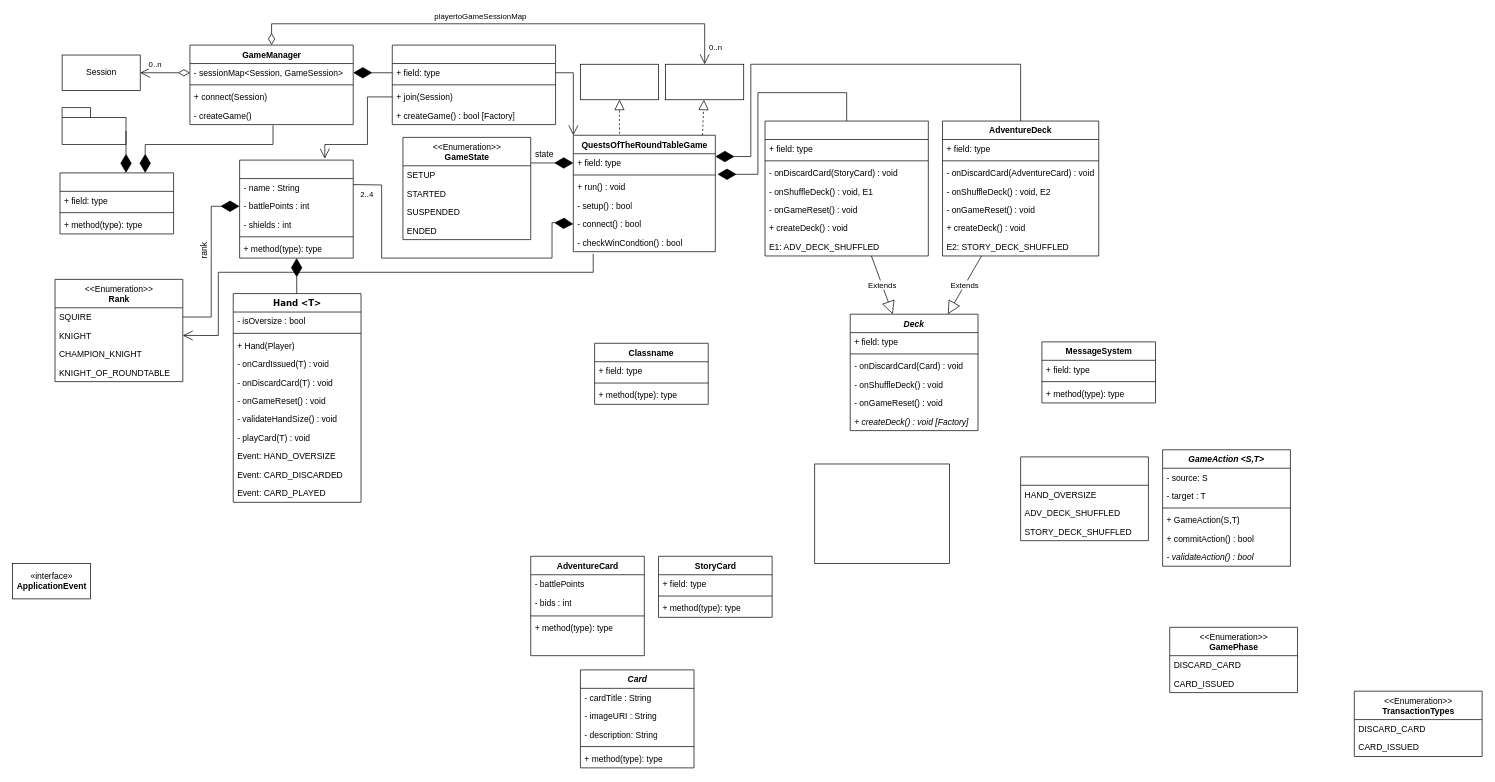
Some shapes in this 1495 by 782 pixel diagram are drawn without their labels. Here are the shapes that lost their labels. From the top down, the box of each, then its label:
(392, 44, 556, 125): QuestsOfTheRoundTableGameFactory
(580, 64, 659, 100): «interface» Runnable
(665, 64, 744, 100): «interface» GameSession
(61, 107, 126, 144): Spring-boot
(59, 172, 174, 234): WebServerController
(764, 120, 928, 256): StoryDeck
(239, 159, 353, 258): Player
(814, 463, 950, 563): <<Interface>> GamePhase + method1(Type): Type + method2(Type, Type): Type
(1020, 456, 1148, 541): <<Enumeration>> ActionTypes
